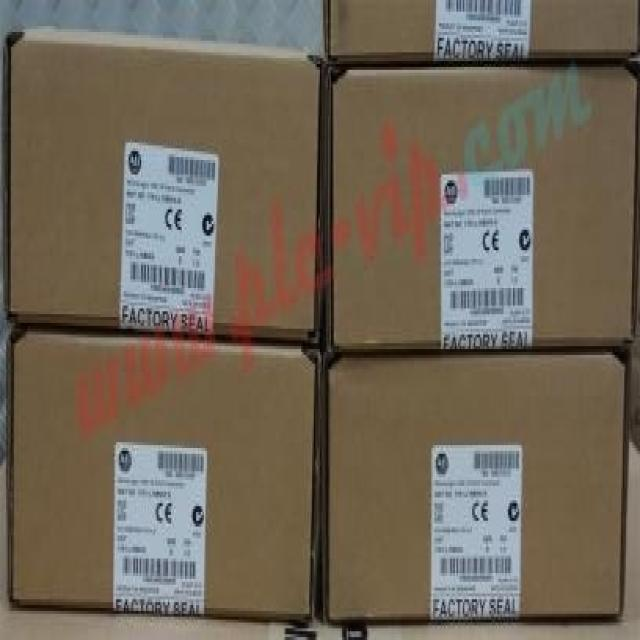box: (3, 26, 325, 346), (6, 329, 323, 623), (325, 58, 640, 352), (322, 349, 629, 623), (323, 0, 640, 55)
